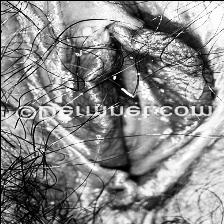Toxin: (156, 124, 223, 180), (136, 62, 184, 108), (46, 64, 70, 104), (78, 23, 96, 41), (117, 217, 132, 224)
